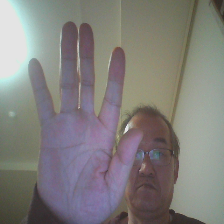hand: (25, 18, 148, 221)
